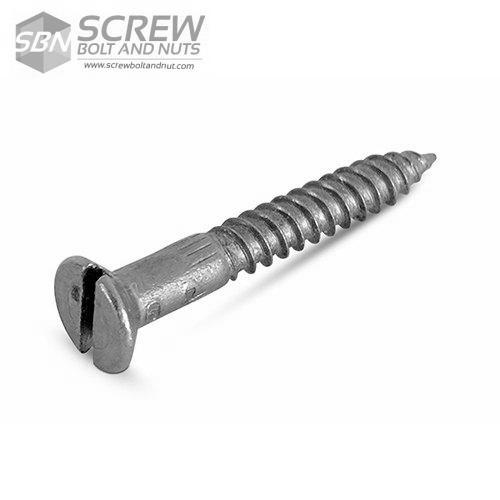screw: (48, 249, 144, 384)
